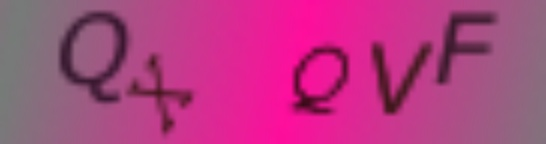F: (436, 10, 505, 87)
Q: (55, 8, 135, 103), (289, 43, 353, 116)
V: (362, 37, 436, 118)
X: (126, 51, 196, 135)
